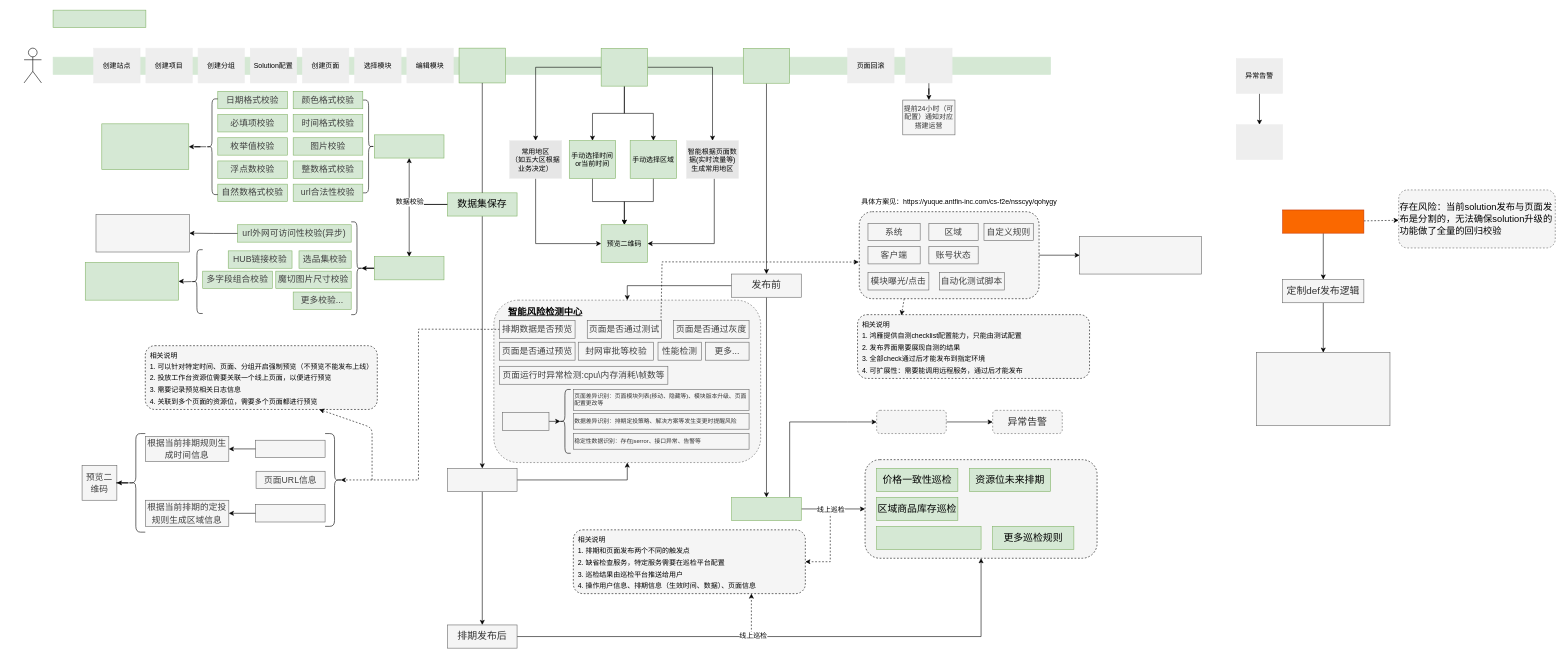
Image size: 1565x658. Some labels were removed from this diagram. The shapes that lost their labels are listed below. From the top down, each one's centre as x and y in pixels, then its label:
At point 99,19: "页面搭建主线".
At point 32,65: "运营/外包/前端".
At point 481,65: "排期投放".
At point 624,67: "页面预览".
At point 766,65: "页面发布".
At point 928,65: "页面下线".
At point 145,146: "1. 校验失败无法保存 2. 失败时存储日志，超过一定量级review资源位schema设置合理性".
At point 409,146: "静态校验".
At point 1259,142: "使用工单系统".
At point 142,233: "1. 页面主文档异常告警给对应运营 2. 页面其余异常，资源加载、白屏的推送给前端".
At point 1323,221: "solution发布".
At point 409,268: "动态校验".
At point 1140,255: "1. 未通过check，不允许正式发布页面 2. 未通过check点击发布的保留日志".
At point 132,281: "1. 校验失败无法保存 2. 检测到异常时保存日志数据，用于复盘".
At point 1323,389: "发布到内网前，强跳转到鸿雁某个大流量且在线的活动页面，并通过风险检测中心的规则校验，如果未通过，也不允许发布到内网".
At point 525,421: "智能策略".
At point 911,422: "线上监控".
At point 290,449: "时间穿越".
At point 482,480: "排期发布前".
At point 290,513: "空间穿越".
At point 766,509: "发布后".
At point 928,538: "图雀掉坑、白屏检测".
